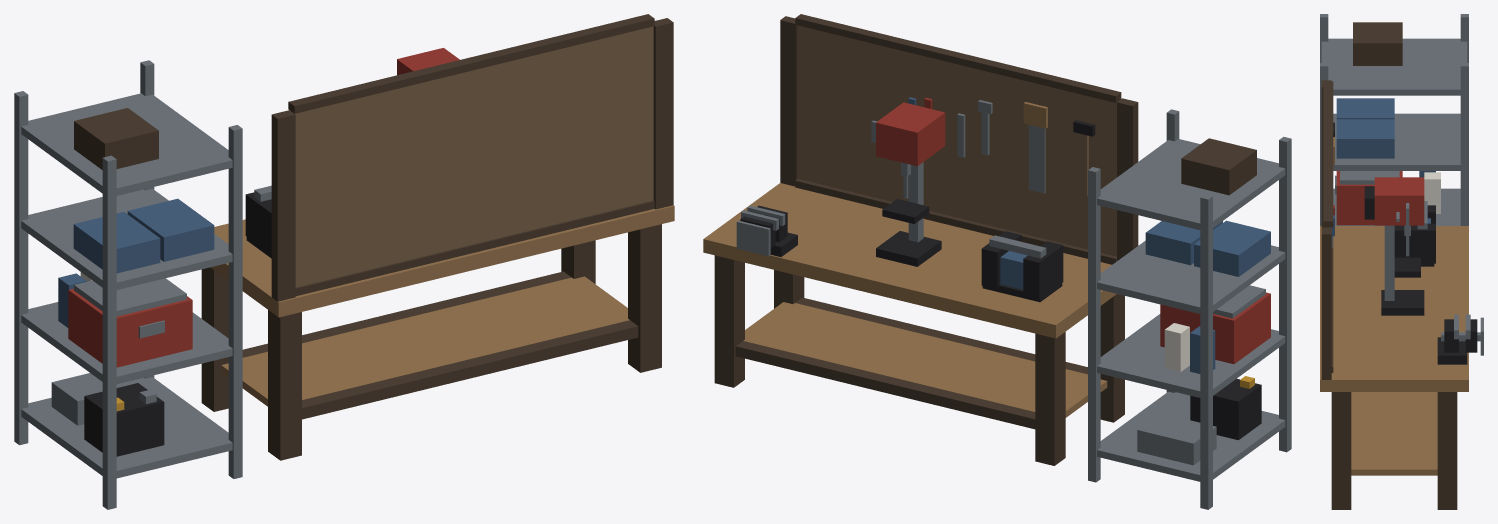
File: camp_workshop_2.glb
3 renders of one model, left to right at view 1: azimuth 30°, elevation 25°; view 2: azimuth 150°, elevation 25°; view 3: azimuth 270°, elevation 25°, orthographic. The views are drawn at different scales.
Parts seen in each view (by area): view 1: camp_workshop_2; view 2: camp_workshop_2; view 3: camp_workshop_2.
Boxes of the visible parts, x1,y1,x2,y2 form: camp_workshop_2: (14,14,674,509); camp_workshop_2: (703,14,1291,509); camp_workshop_2: (1320,14,1483,509).
Size of what is drawn, in the model's own units: 3.15 by 1.89 by 0.99.
Materials: 1 (1 with a texture image).
